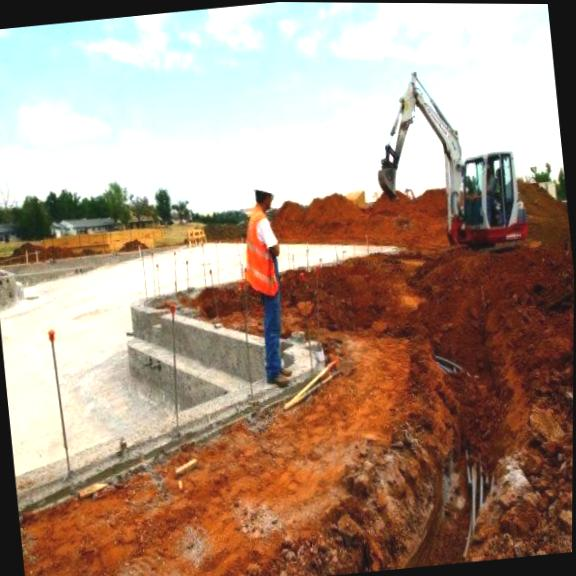safety_vest: (239, 203, 284, 296)
